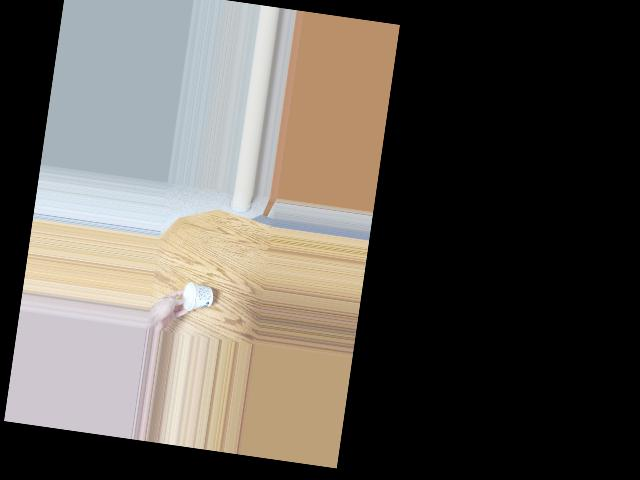cotage: (176, 278, 211, 314)
